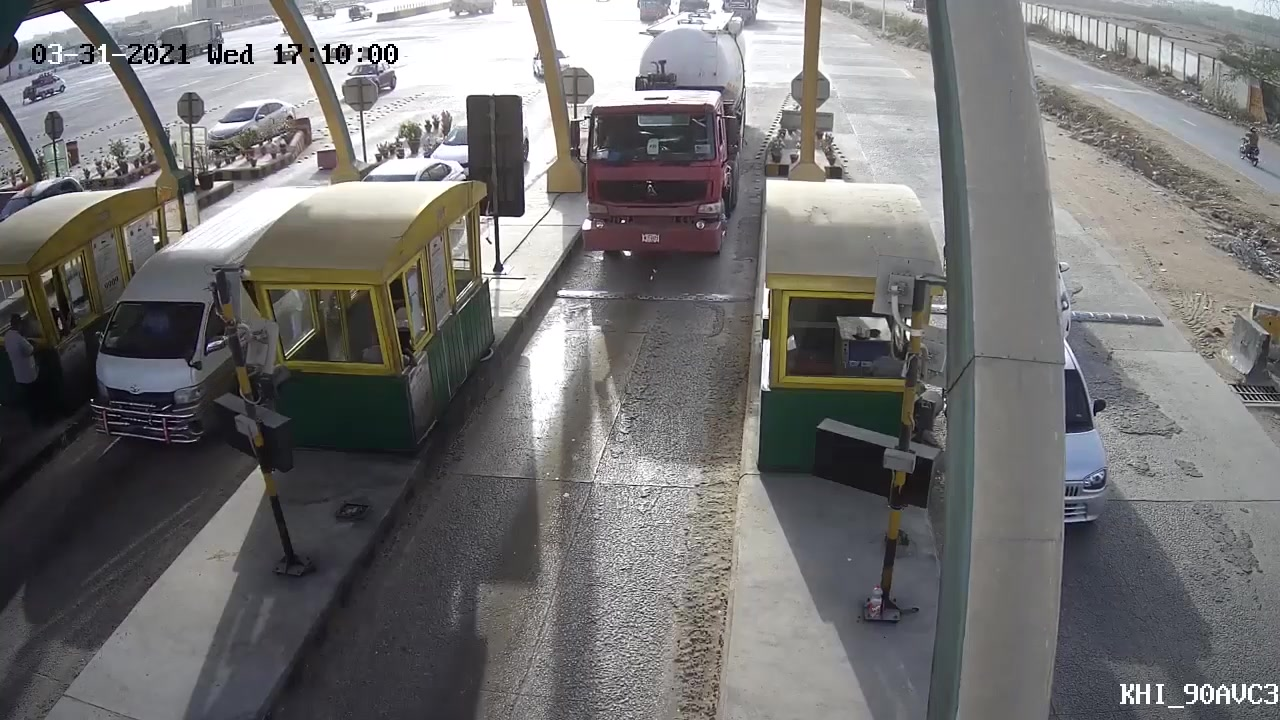F6: (573, 31, 740, 282)
